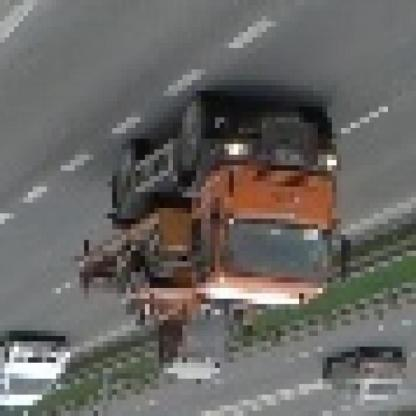truck: (76, 98, 357, 391)
